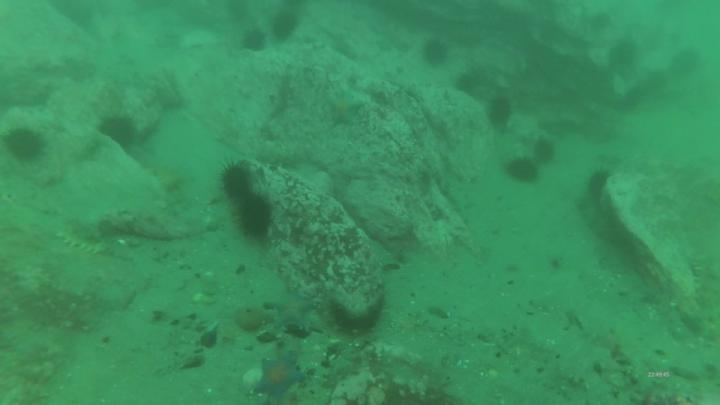echinus: (2, 125, 52, 168), (232, 194, 274, 244), (96, 114, 138, 155), (218, 157, 254, 203), (453, 66, 493, 102), (503, 154, 542, 187), (267, 9, 302, 44), (419, 35, 453, 71), (607, 36, 640, 72), (486, 94, 517, 129), (672, 48, 704, 79), (585, 169, 614, 199), (241, 26, 272, 54), (531, 138, 556, 165), (224, 1, 251, 22)
holothurian: (689, 247, 720, 334), (54, 219, 116, 261)
starfish: (255, 352, 308, 403), (268, 289, 316, 338), (325, 88, 371, 132)
